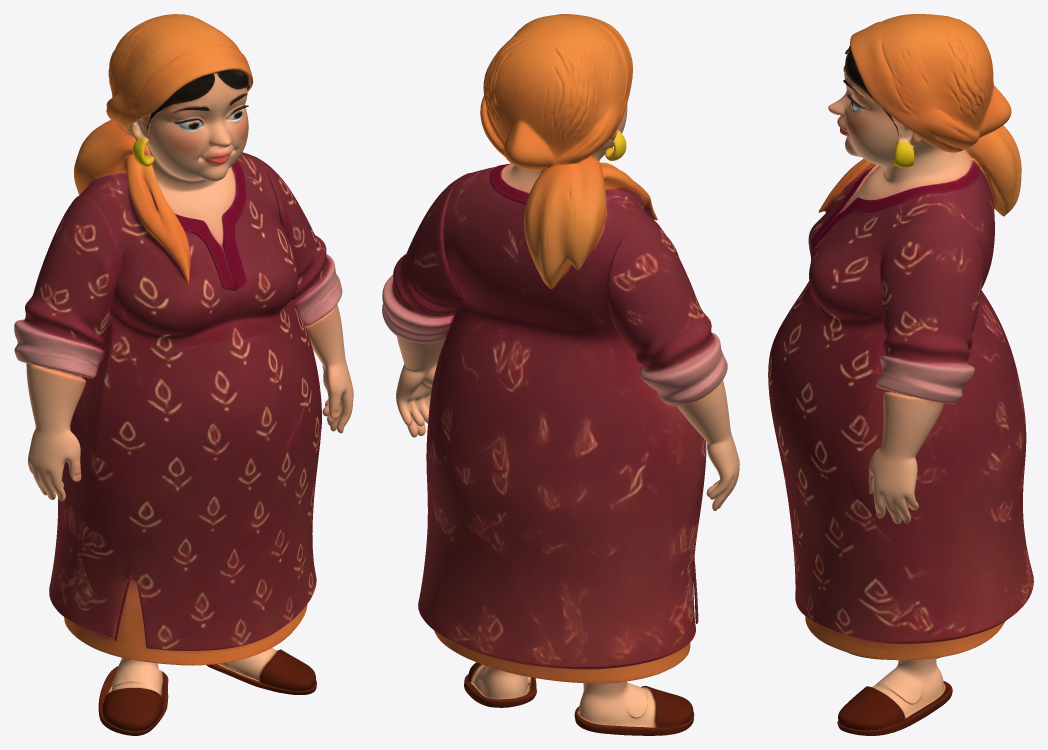
Rendered from rahma__base_basic_pbr.glb.
3 views of the same model, side by side, from view 1: azimuth 30°, elevation 25°; view 2: azimuth 150°, elevation 25°; view 3: azimuth 270°, elevation 25° (orthographic). The views are drawn at different scales.
Parts seen in each view (by area): view 1: model; view 2: model; view 3: model.
Part boxes in pixels (x1,y1,x2,y2): model: (14,14,353,735); model: (382,14,739,735); model: (768,14,1033,735).
Size of the model in its own units: 0.9532 by 1.9 by 0.6876.
Materials: 1 (1 with a texture image).
